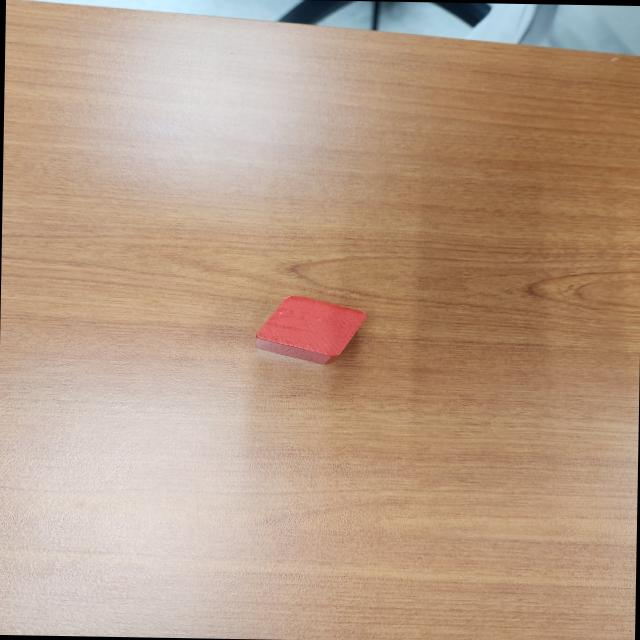red: (251, 296, 368, 366)
